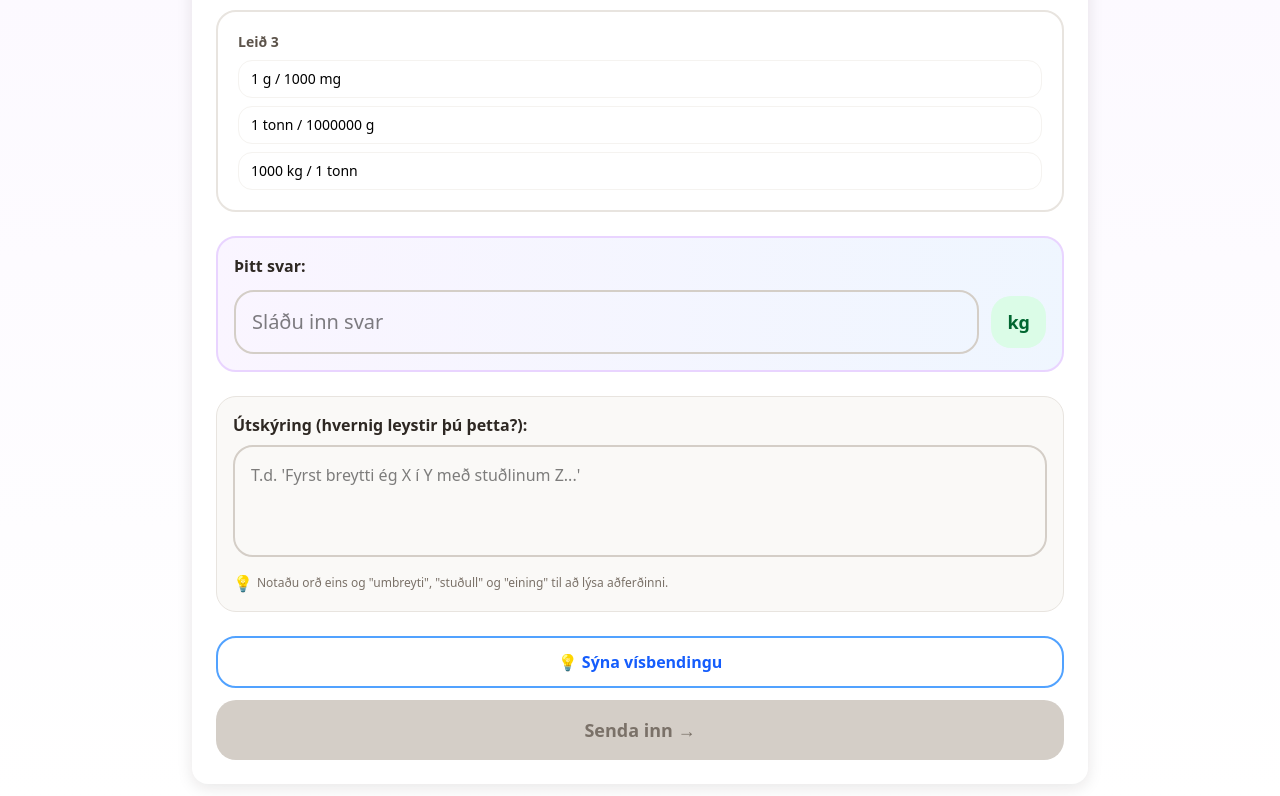
it: the submit button asks for what the item grades › an efficiency item needs its path chosen as well as its number
(page scrolled)
In the text box labelled "Útskýring (hvernig leystir þú þetta?):": [640, 501] box [233, 445, 1047, 557], type "Ég umbreytti einingunum skref fyrir skref með stuðlum."
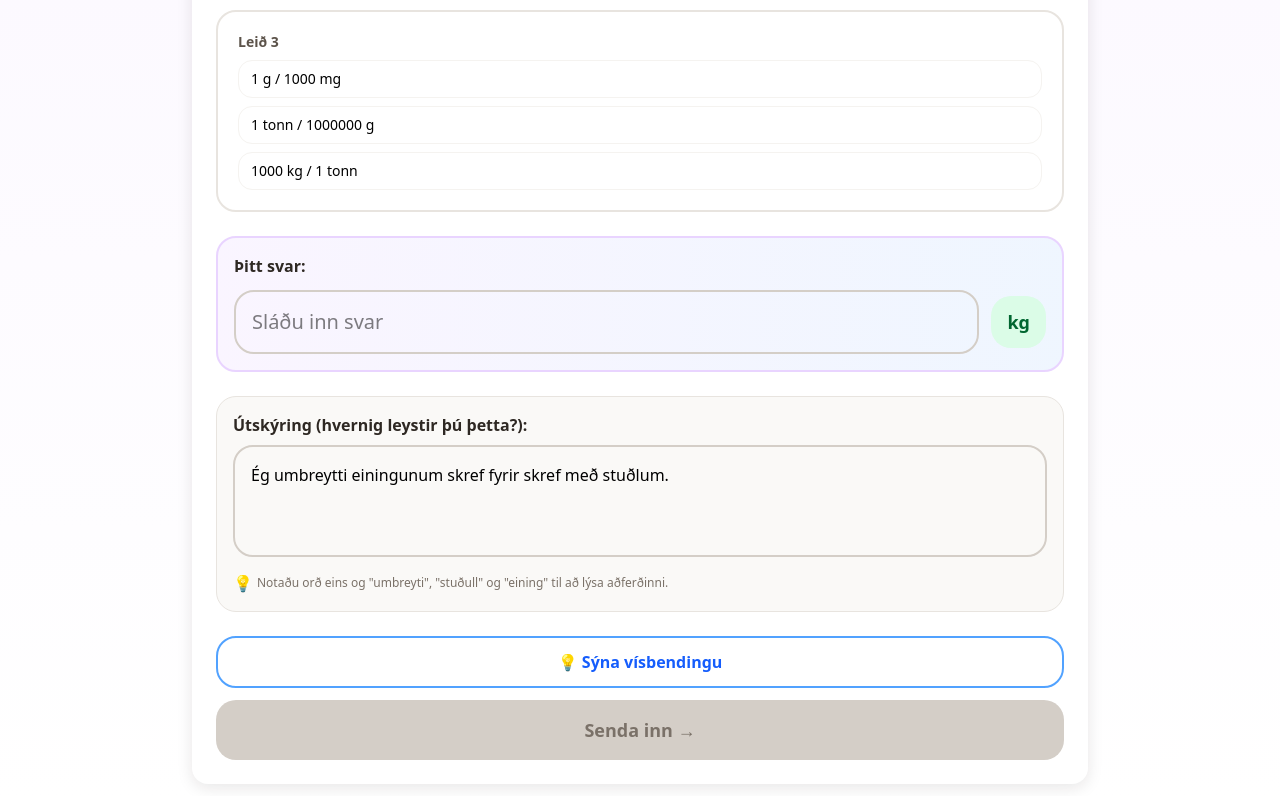
In the field labelled "Þitt svar:": [607, 322] box [234, 290, 979, 354], type "0,5"
(page scrolled)
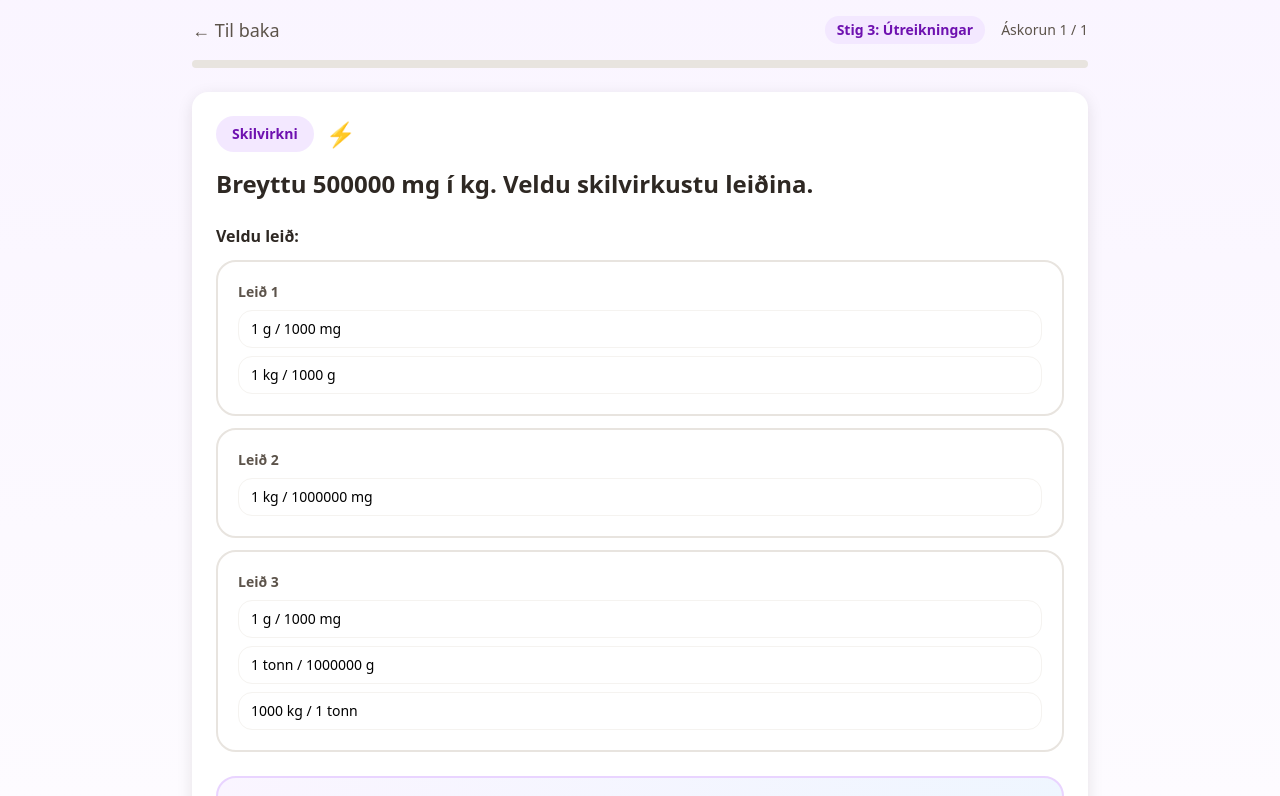
Click the button "Leið 1 1 g / 1000 mg 1 kg / 1000 g": [640, 338] box [216, 260, 1064, 416]
(page scrolled)
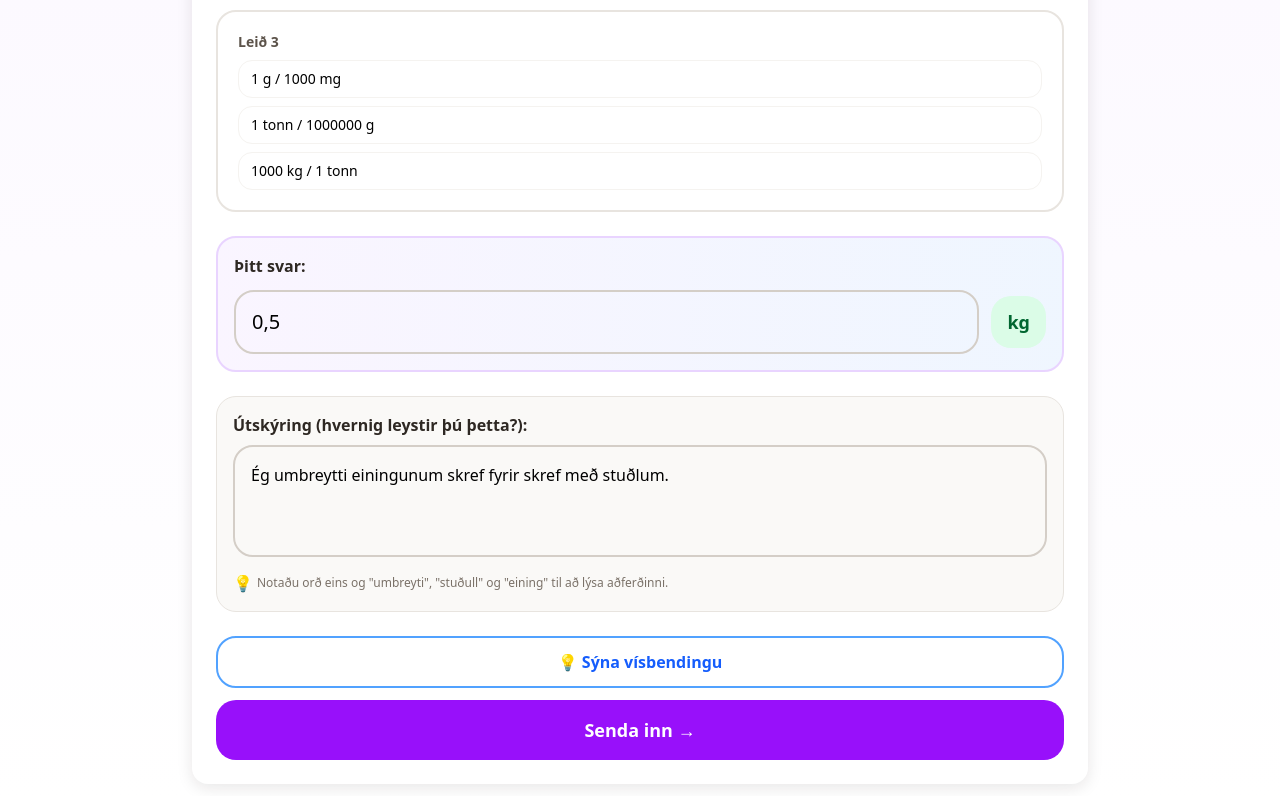
Result: the button "Senda inn →" is enabled at [216, 700, 1064, 760]
